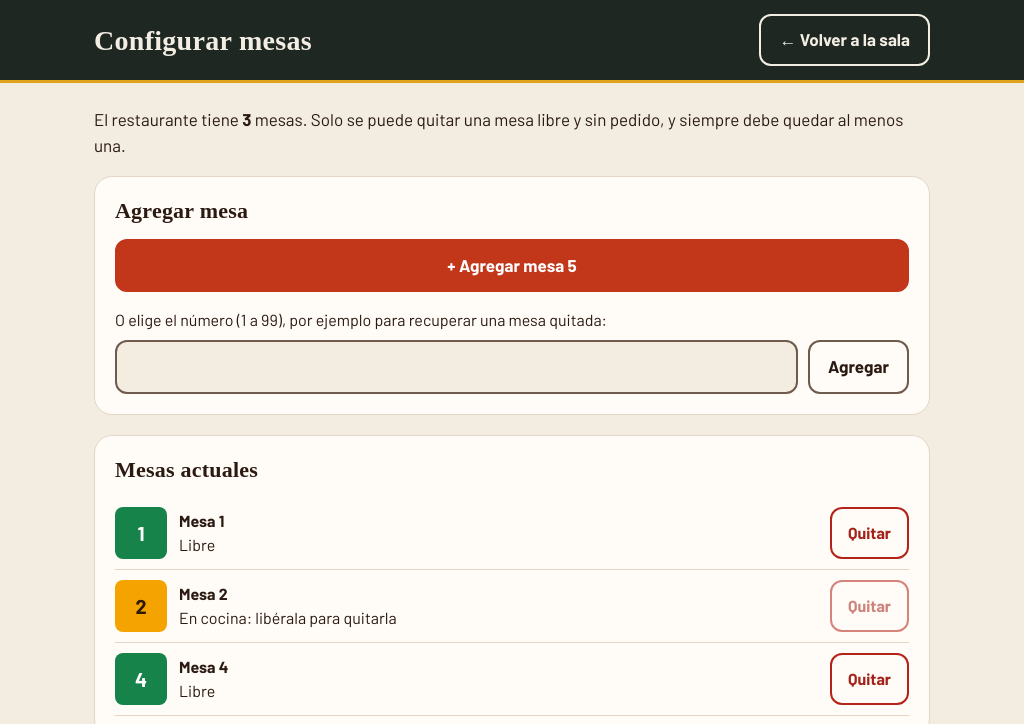
it: AdminMesas: agregar › con un número libre (un hueco) lo envía y limpia el campo
This screenshot has width=1024, height=724.
Type "3" into the number field labelled "O elige el número". click: (456, 367)
box: [115,340,798,394]
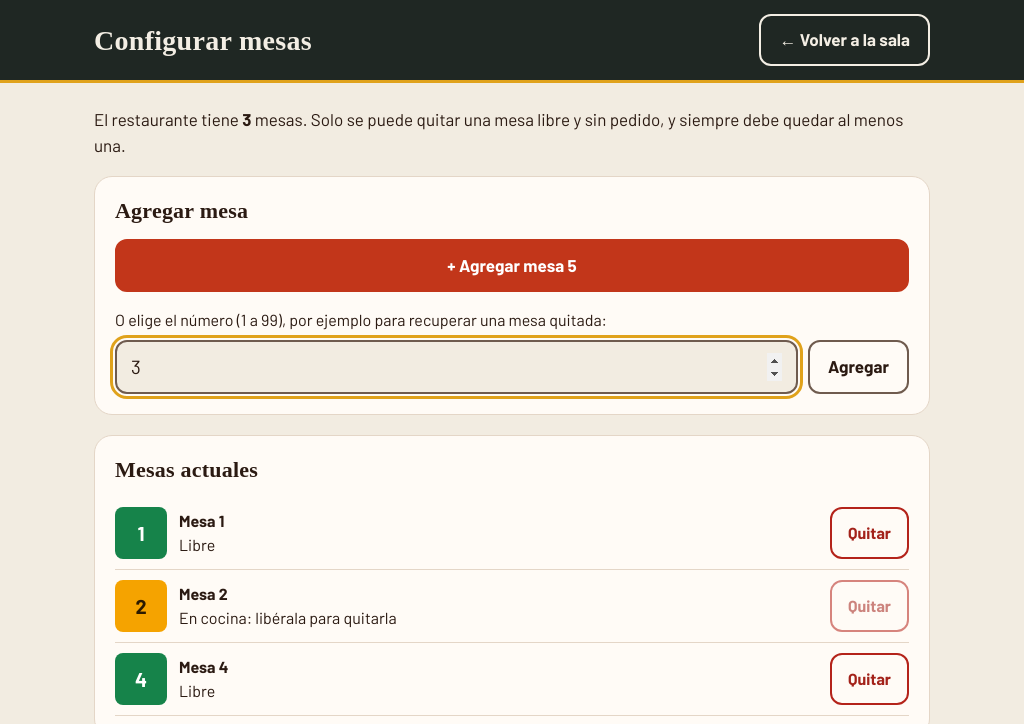
Click the button "Agregar". click: (858, 367)
box: [808,340,909,394]
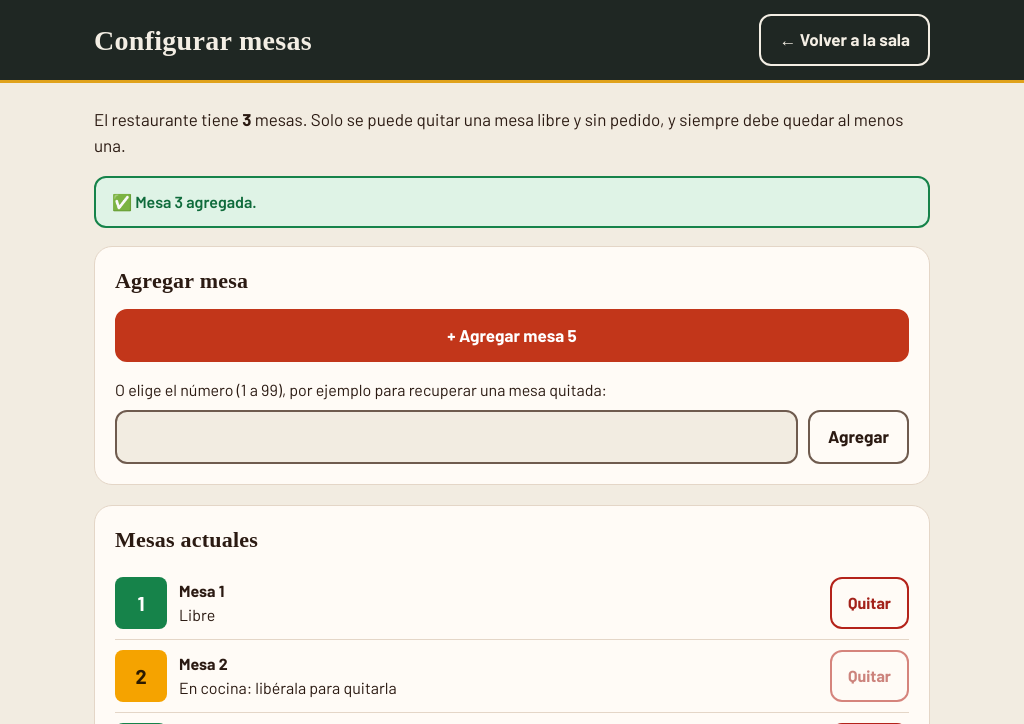
expect the text "✅ Mesa 3 agregada." is shown: met, box [94,176,930,228]
expect the number field labelled "O elige el número" is not empty: met, box [115,410,798,464]
